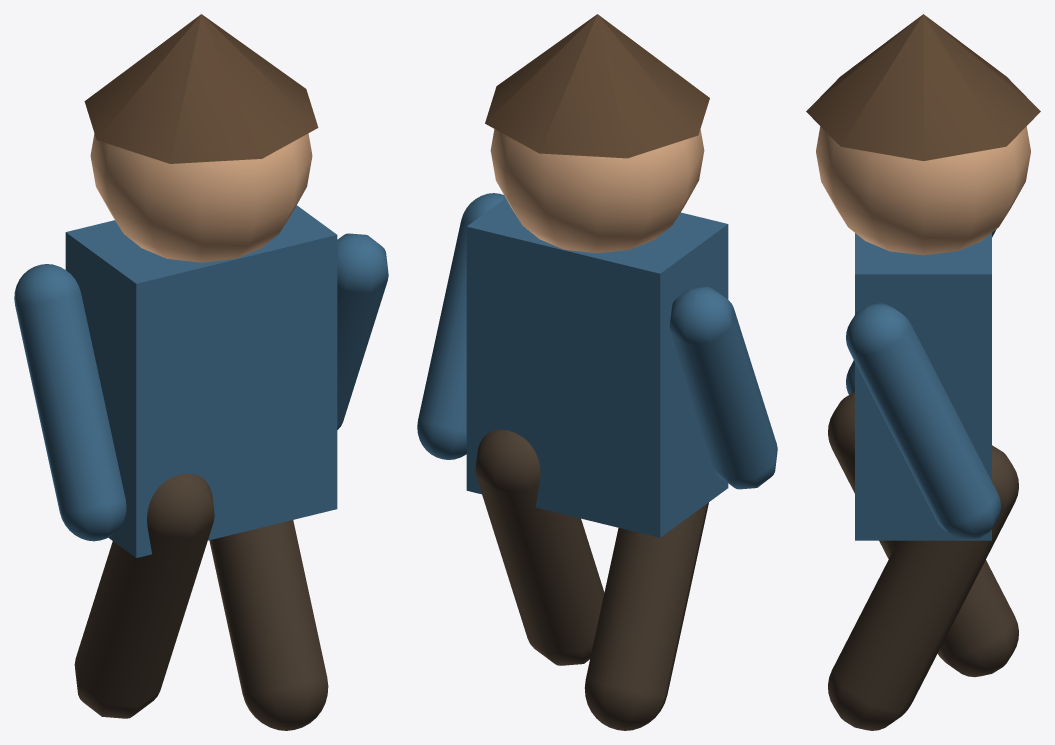
Rendered from player-character.glb.
The picture shows the model from 3 angles, left to right: view 1: azimuth 30°, elevation 25°; view 2: azimuth 150°, elevation 25°; view 3: azimuth 270°, elevation 25°; orthographic projection. The views are drawn at different scales.
Parts seen in each view (by area): view 1: Torso, Hat, LegLeft, Head, ArmLeft, LegRight, ArmRight; view 2: Torso, Hat, Head, LegRight, LegLeft, ArmLeft, ArmRight; view 3: Torso, Hat, LegRight, Head, ArmRight, LegLeft.
Part boxes in pixels (x1,y1,x2,y2): Torso: (65, 205, 337, 557); Hat: (84, 14, 318, 163); LegLeft: (74, 473, 214, 718); Head: (90, 133, 312, 262); ArmLeft: (14, 264, 126, 541); LegRight: (209, 520, 328, 730); ArmRight: (337, 233, 388, 429); Torso: (466, 198, 728, 537); Hat: (485, 14, 709, 158); Head: (490, 129, 704, 253); LegRight: (475, 429, 604, 665); LegLeft: (584, 502, 708, 730); ArmLeft: (669, 287, 777, 489); ArmRight: (417, 193, 505, 459); Torso: (855, 233, 991, 540); Hat: (806, 14, 1040, 160); LegRight: (828, 445, 1018, 730); Head: (816, 126, 1030, 255); ArmRight: (846, 303, 1000, 540); LegLeft: (828, 391, 1018, 677).
Size of the model in its own units: 0.74 by 1.55 by 0.48.
